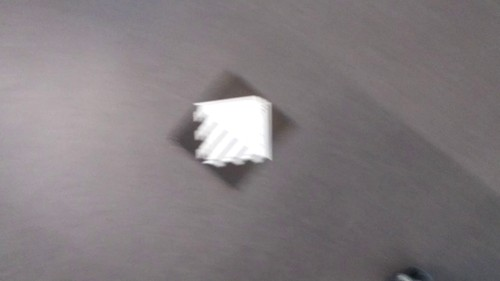misgoods: (188, 93, 283, 170)
